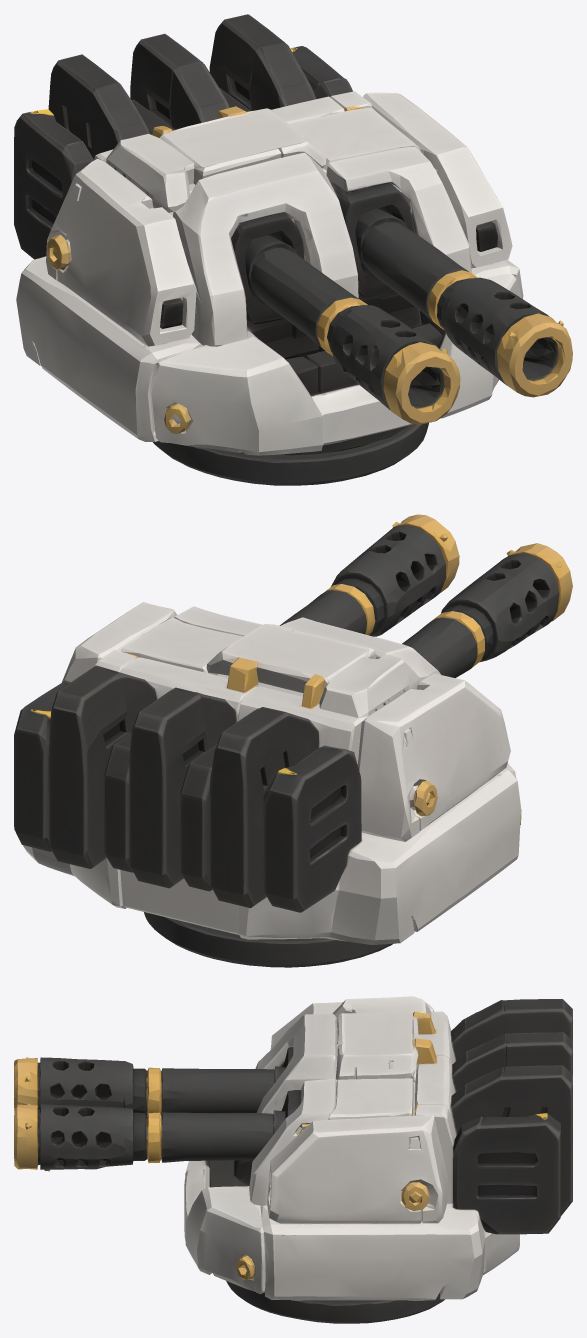
The model's file is autocannon.glb.
3 renders of one model, top to bottom at view 1: azimuth 30°, elevation 25°; view 2: azimuth 150°, elevation 25°; view 3: azimuth 270°, elevation 25°, orthographic. The views are drawn at different scales.
Visible parts, largest first — view 1: model; view 2: model; view 3: model.
Boxes of the visible parts, x1,y1,x2,y2 form: model: (14, 14, 572, 485); model: (14, 514, 572, 967); model: (14, 996, 572, 1323).
Bounding box in the file's own units: 1.25 × 0.9017 × 1.9.
1 material, 1 textured.
